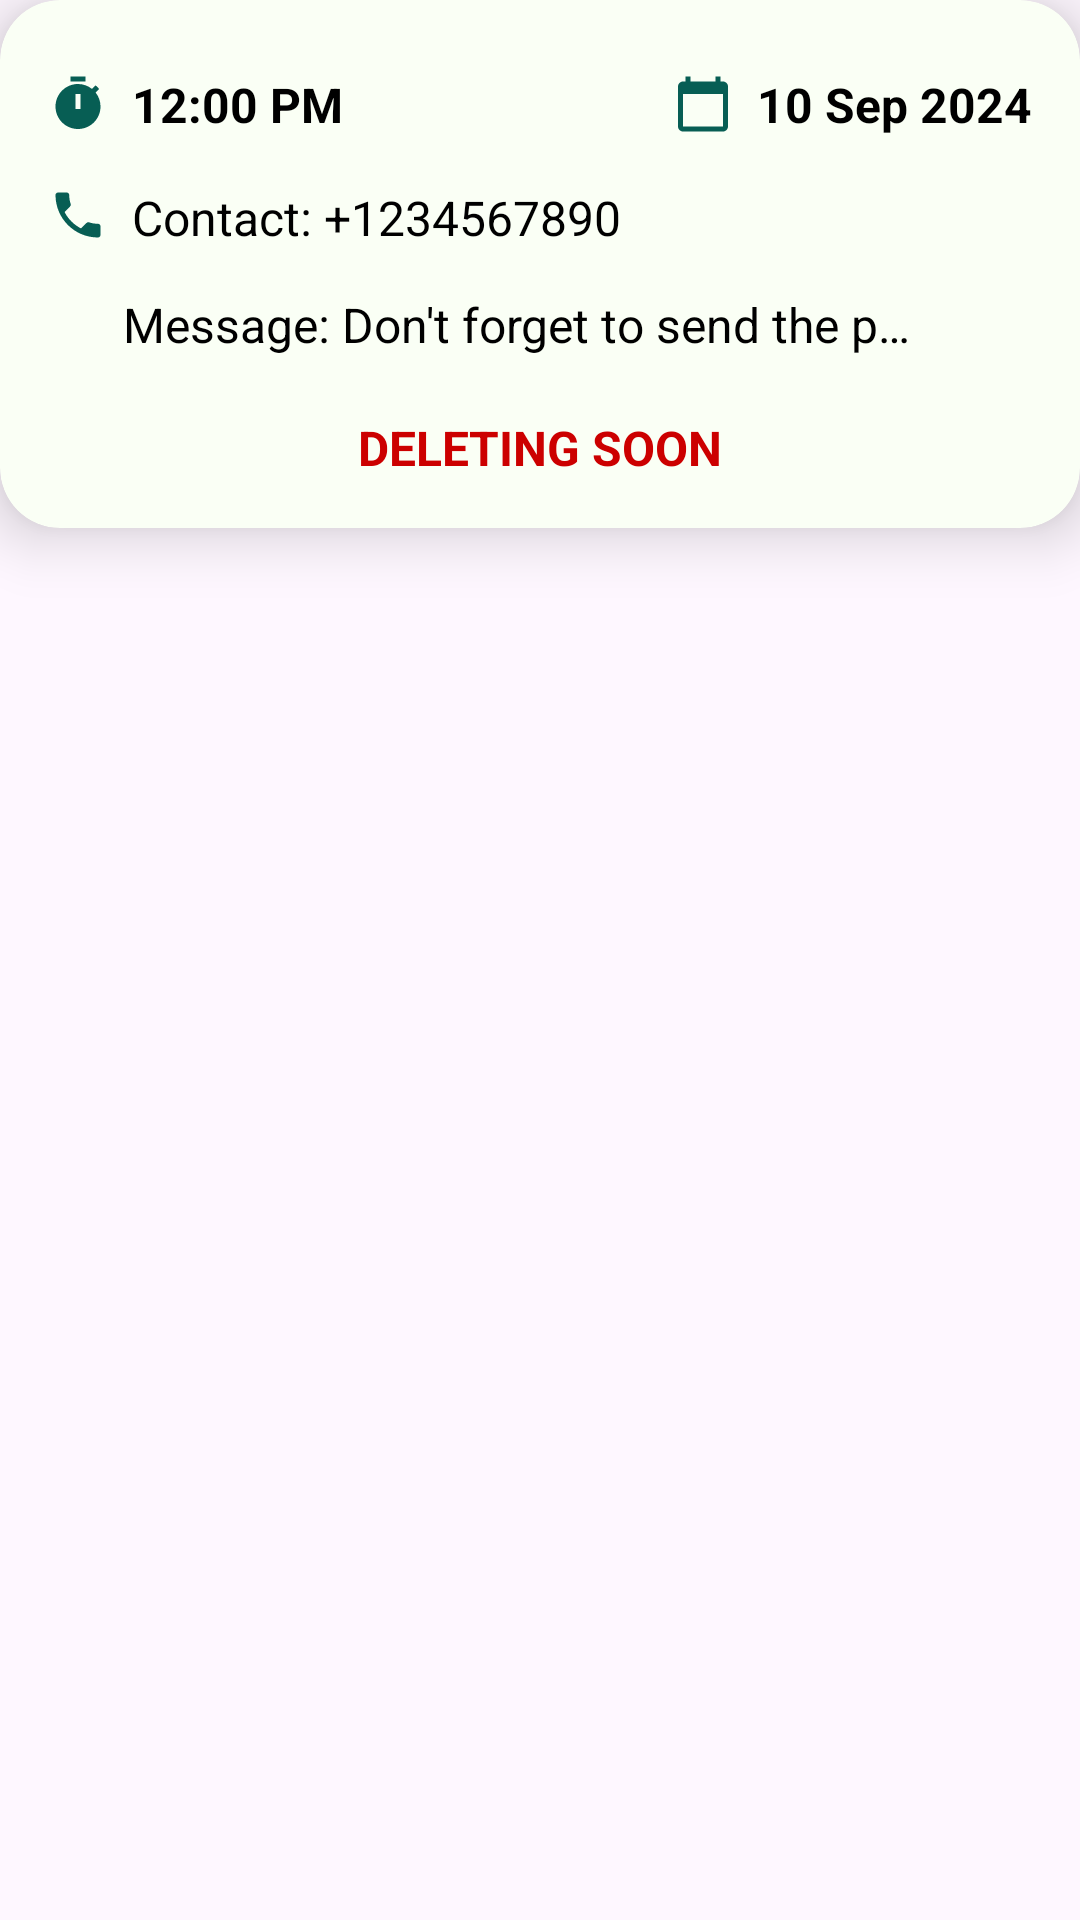

Where to tap for icons on this 1080w x 1920h app screen, as [x,y]:
calendar: [703,104]
clock: [78,102]
phone: [78,215]
